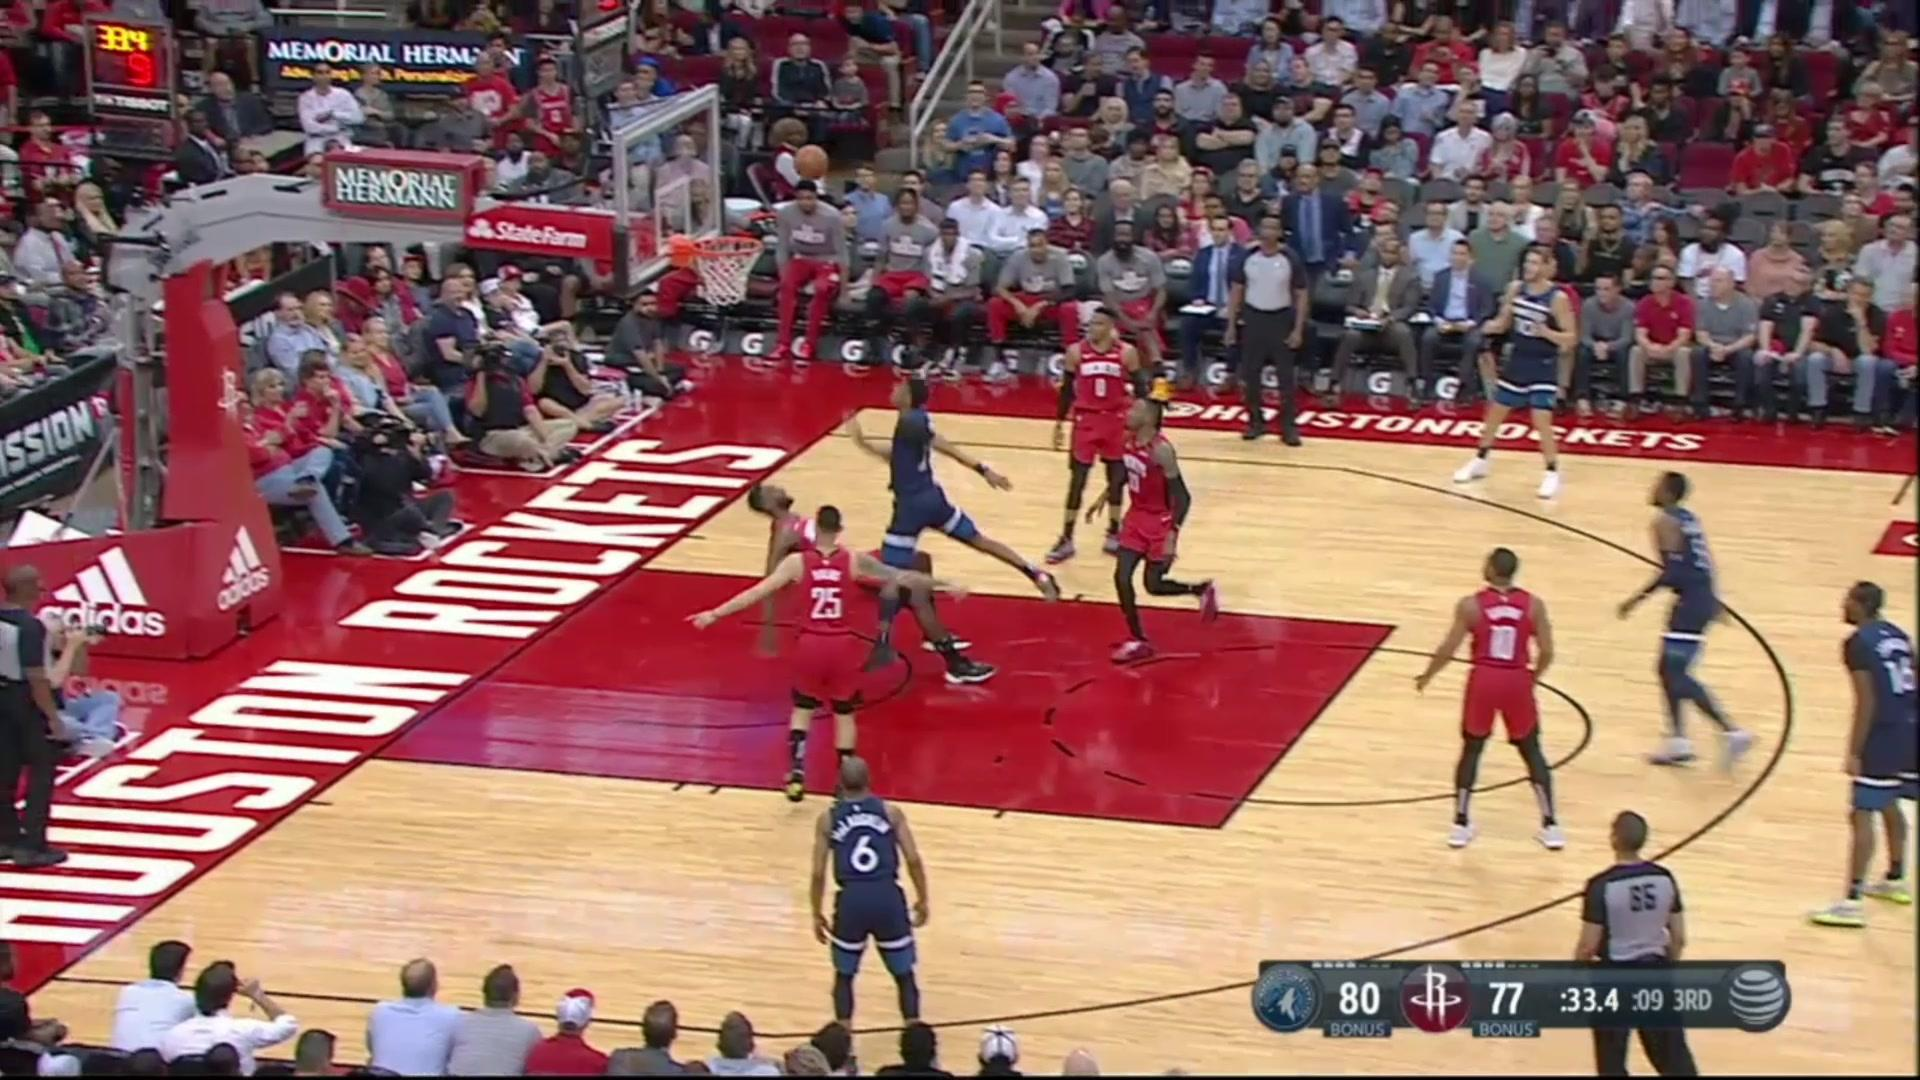no_foul: (761, 361, 993, 604)
